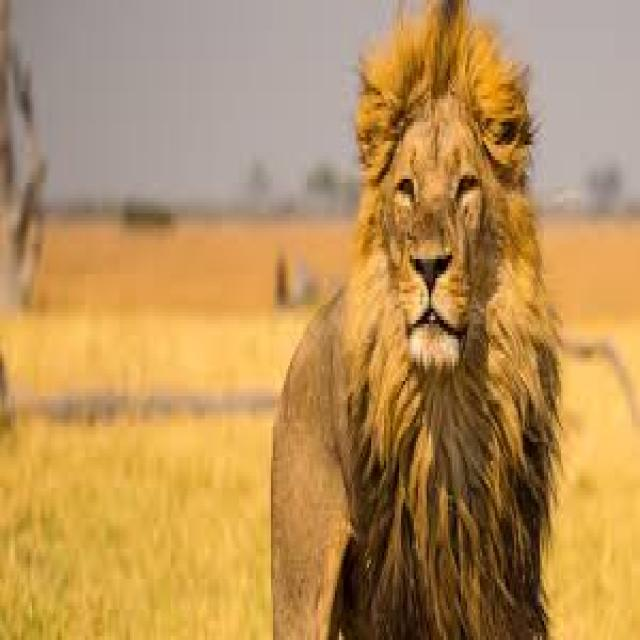Lion: (270, 4, 565, 636)
